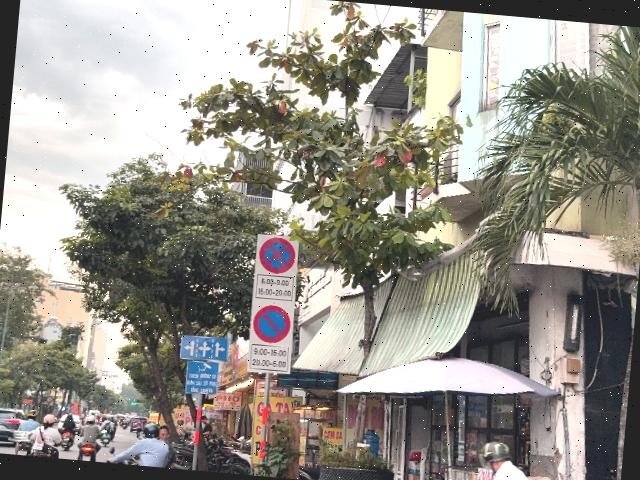cam-do-xe: (251, 304, 292, 344)
cam-dung-va-do-xe: (257, 236, 297, 274)
